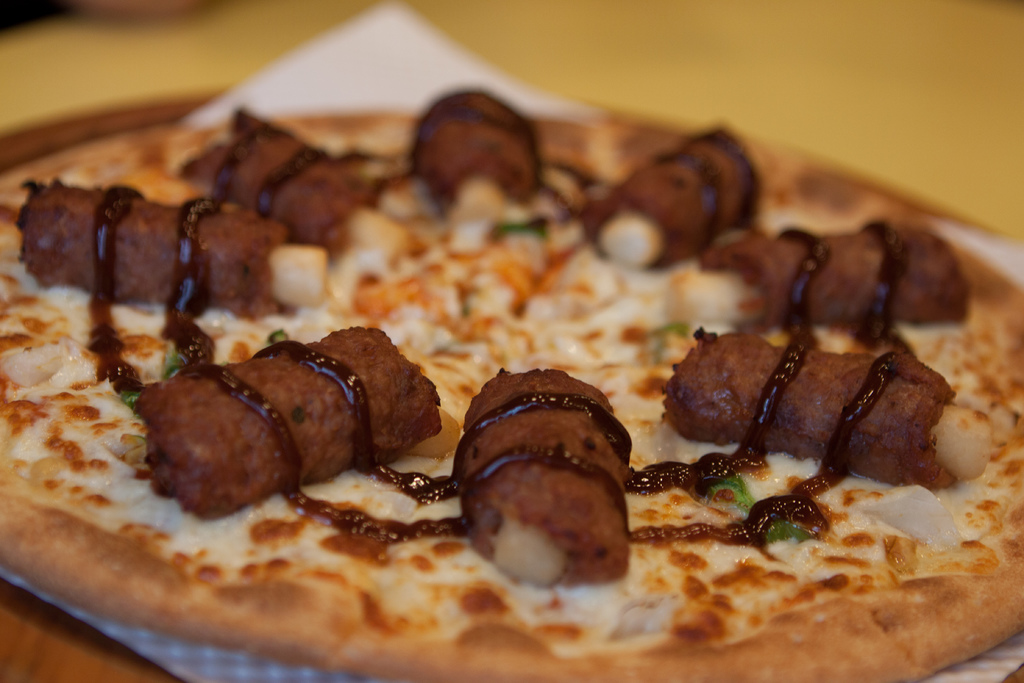Pizza: (0, 87, 1023, 679)
